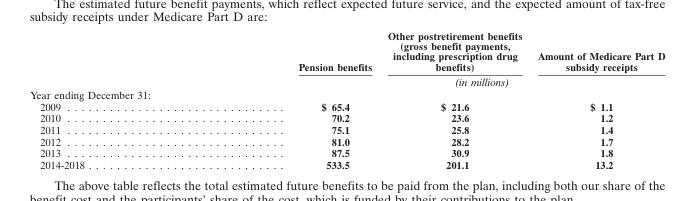table: (28, 28, 664, 170)
table column: (190, 28, 379, 170), (28, 28, 190, 170), (379, 28, 529, 170), (529, 28, 664, 170)
table column header: (28, 28, 664, 87)
table projected row header: (28, 87, 664, 100)
table row: (28, 28, 664, 73), (28, 73, 664, 87), (28, 87, 664, 100), (28, 111, 664, 123), (28, 123, 664, 135), (28, 146, 664, 158), (28, 158, 664, 170), (28, 100, 664, 111), (28, 135, 664, 146)
table spanning cell: (190, 73, 664, 87)
